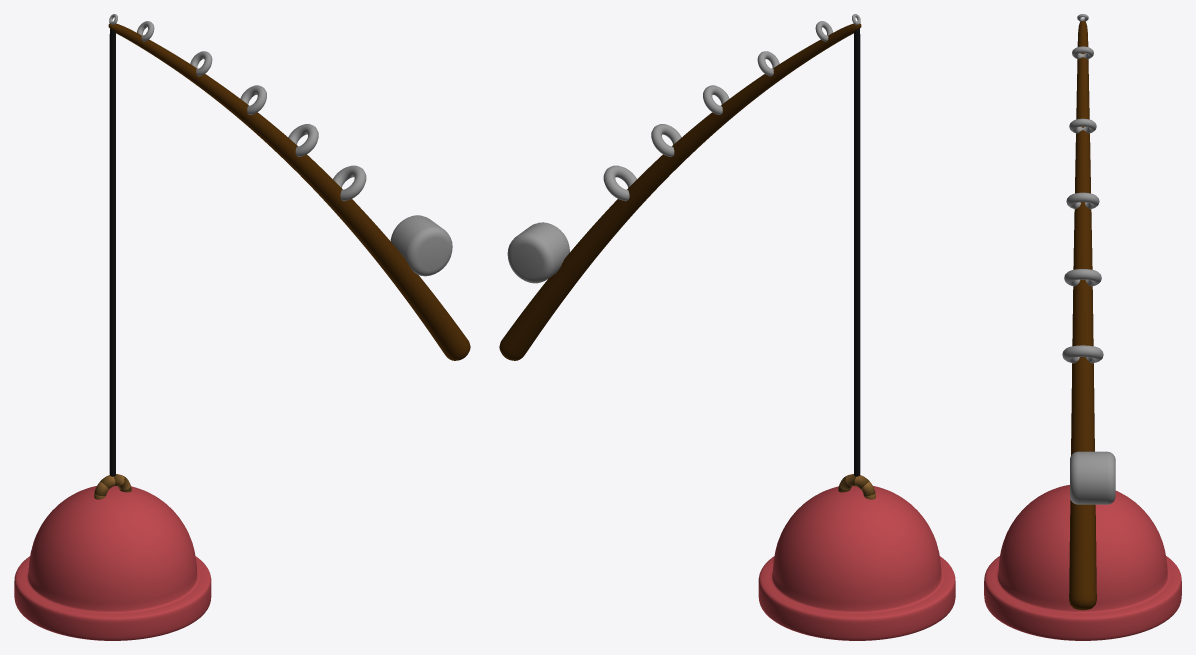
File: fwprops_fishing-rod.fbx
3 views of the same model, side by side, from view 1: azimuth 30°, elevation 25°; view 2: azimuth 150°, elevation 25°; view 3: azimuth 270°, elevation 25° (orthographic).
Parts seen in each view (by area): view 1: obj_fishrod_plunger, obj_fishrod_stick, obj_fishrod-string, obj_fishrod_metal_5; view 2: obj_fishrod_plunger, obj_fishrod_stick, obj_fishrod-string, obj_fishrod_metal_5; view 3: obj_fishrod_plunger, obj_fishrod_stick, obj_fishrod_metal_5, obj_fishrod_metal_4, obj_fishrod_metal_3, obj_fishrod_metal_2.
Boxes of the visible parts, x1,y1,x2,y2 form: obj_fishrod_plunger: (14, 474, 211, 640); obj_fishrod_stick: (108, 23, 470, 360); obj_fishrod-string: (109, 29, 115, 476); obj_fishrod_metal_5: (333, 165, 366, 201); obj_fishrod_plunger: (758, 474, 955, 640); obj_fishrod_stick: (499, 23, 861, 360); obj_fishrod-string: (854, 29, 860, 476); obj_fishrod_metal_5: (603, 165, 636, 201); obj_fishrod_plunger: (984, 485, 1181, 640); obj_fishrod_stick: (1069, 21, 1115, 610); obj_fishrod_metal_5: (1062, 345, 1103, 363); obj_fishrod_metal_4: (1064, 269, 1101, 286); obj_fishrod_metal_3: (1066, 192, 1099, 209); obj_fishrod_metal_2: (1069, 118, 1096, 133).
Size of the model in its own units: 613 by 778 by 237.
